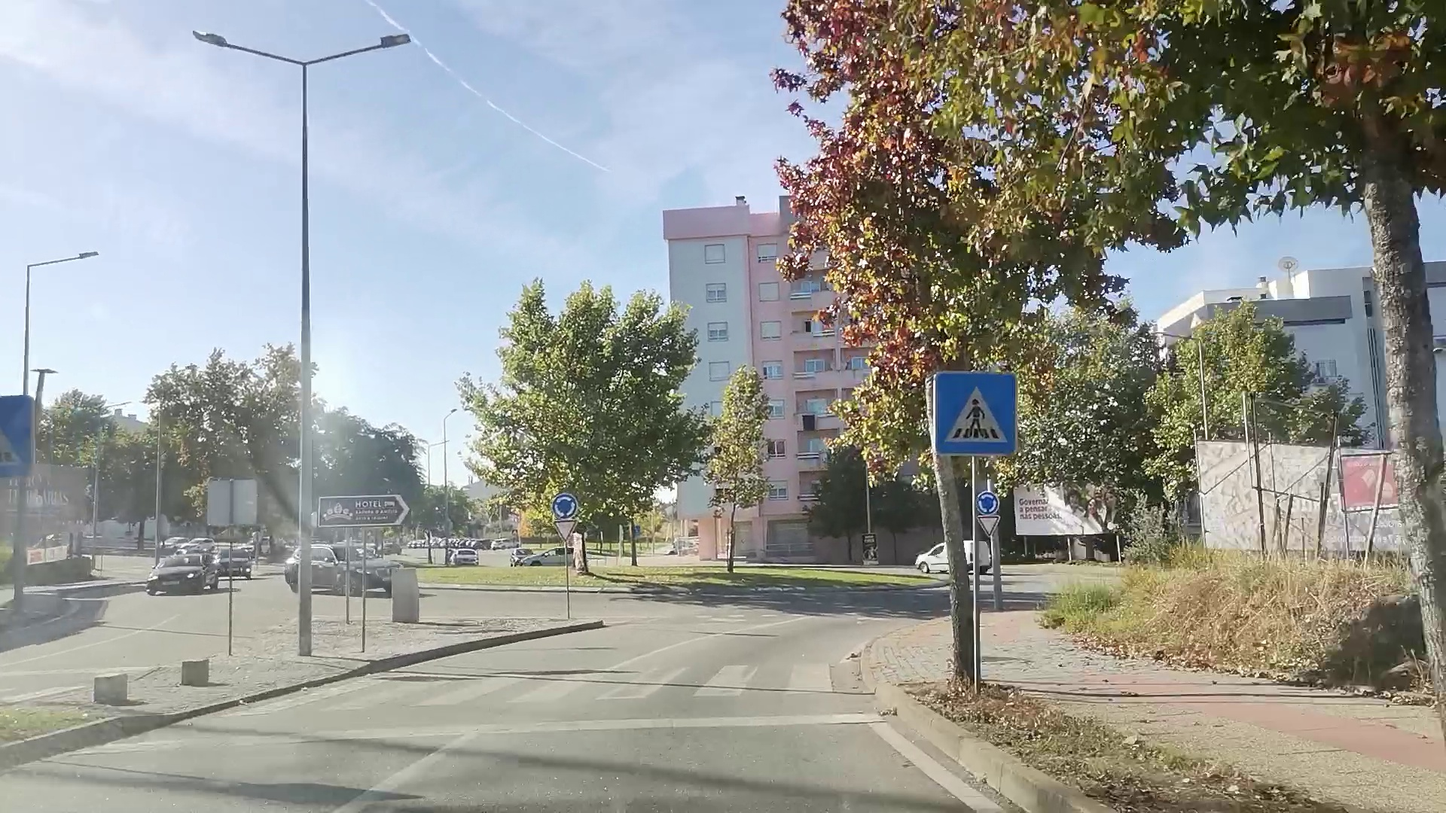Stairs: (313, 654, 855, 717)
